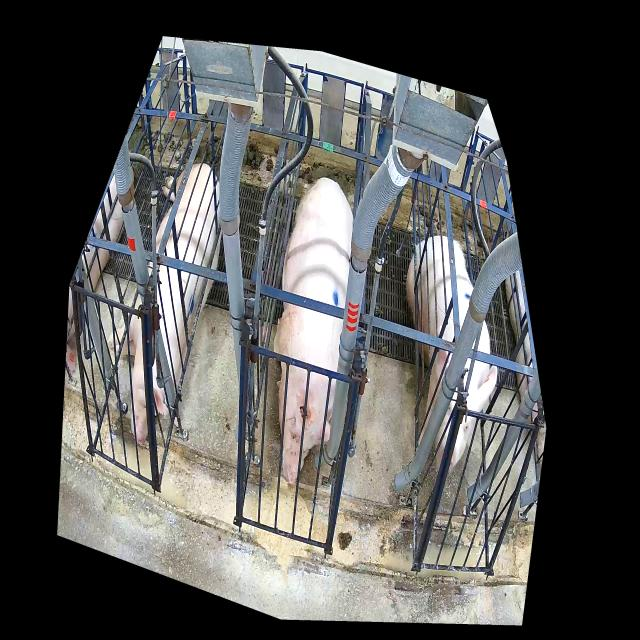pig: (109, 163, 222, 445), (273, 177, 353, 486), (406, 235, 498, 477)
